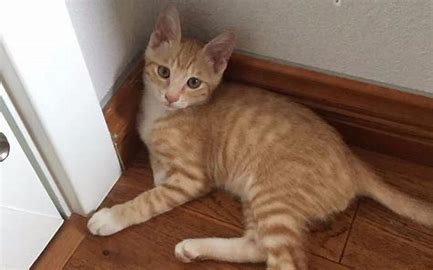cat: (80, 11, 420, 266)
